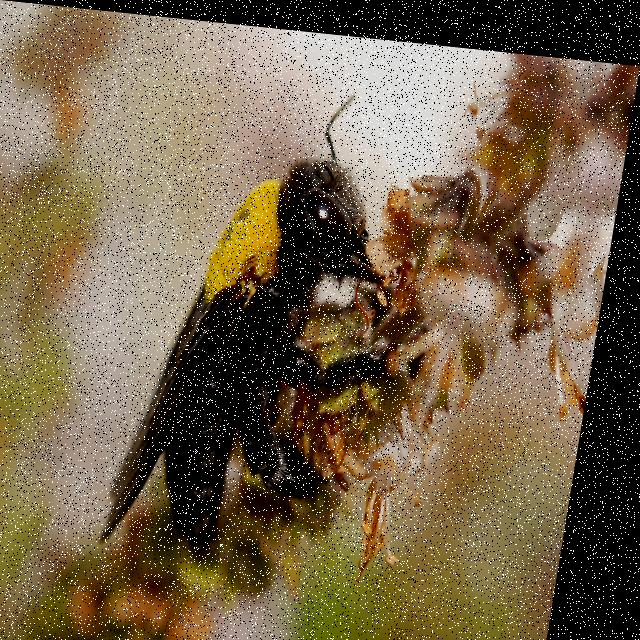Xylocopa: (104, 64, 423, 551)
